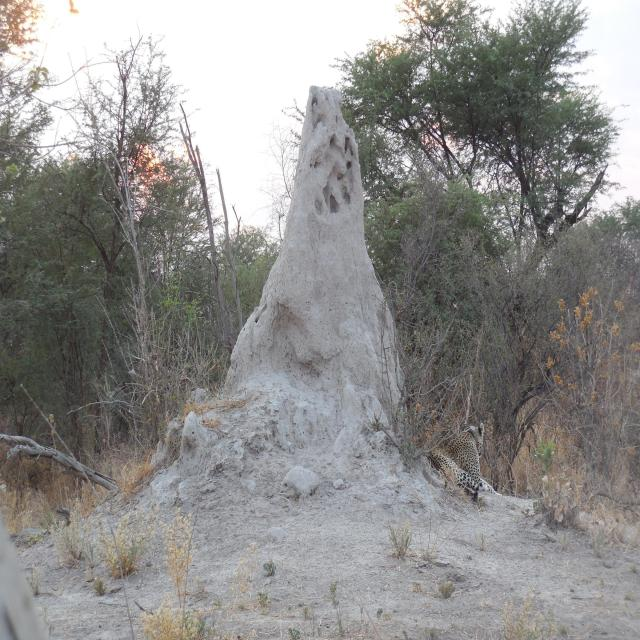Leopard: (426, 431, 505, 512)
